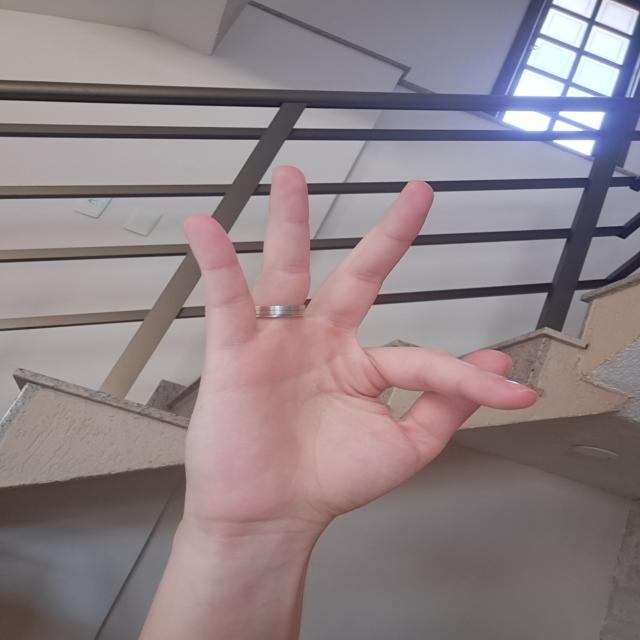F: (165, 153, 549, 531)
